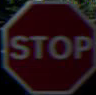Stop: (5, 1, 92, 89)
